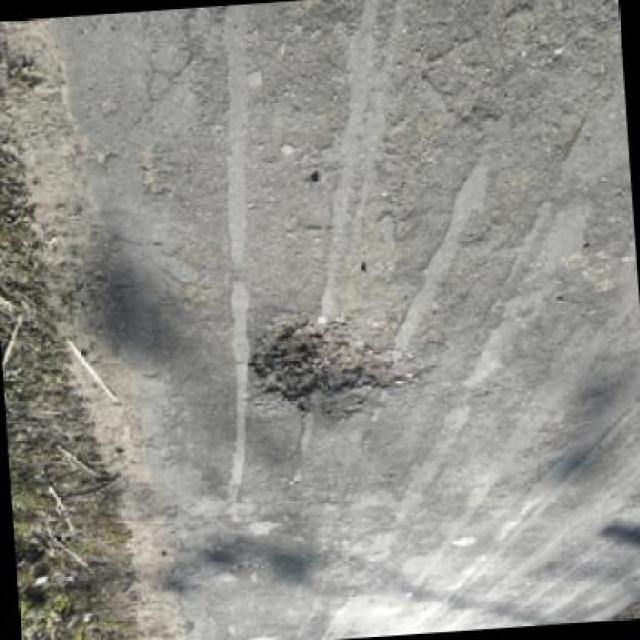pothole1: (246, 308, 422, 426)
